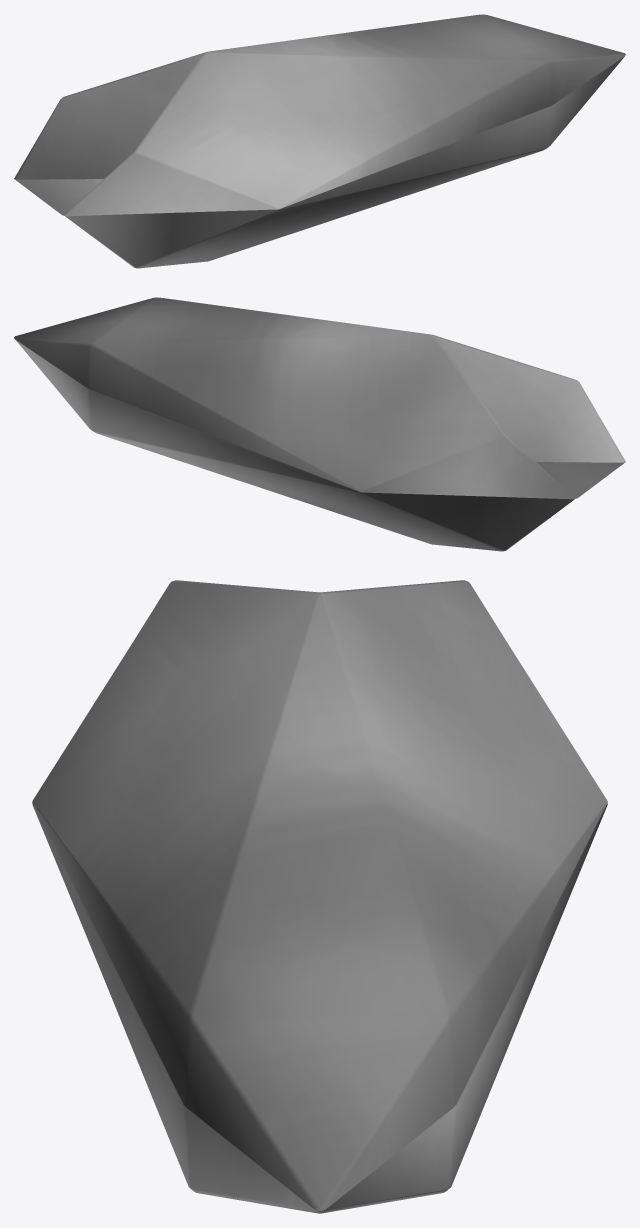
3 renders of one model, top to bottom at view 1: azimuth 30°, elevation 25°; view 2: azimuth 150°, elevation 25°; view 3: azimuth 270°, elevation 25°, orthographic. The views are drawn at different scales.
Visible parts, largest first — view 1: SM_Crystal_Seed_LOD0; view 2: SM_Crystal_Seed_LOD0; view 3: SM_Crystal_Seed_LOD0.
Boxes of the visible parts, x1,y1,x2,y2 form: SM_Crystal_Seed_LOD0: (14,14,625,268); SM_Crystal_Seed_LOD0: (14,297,625,551); SM_Crystal_Seed_LOD0: (32,580,607,1213).
Size of the model in its own units: 0.0713 by 0.0243 by 0.0303.
